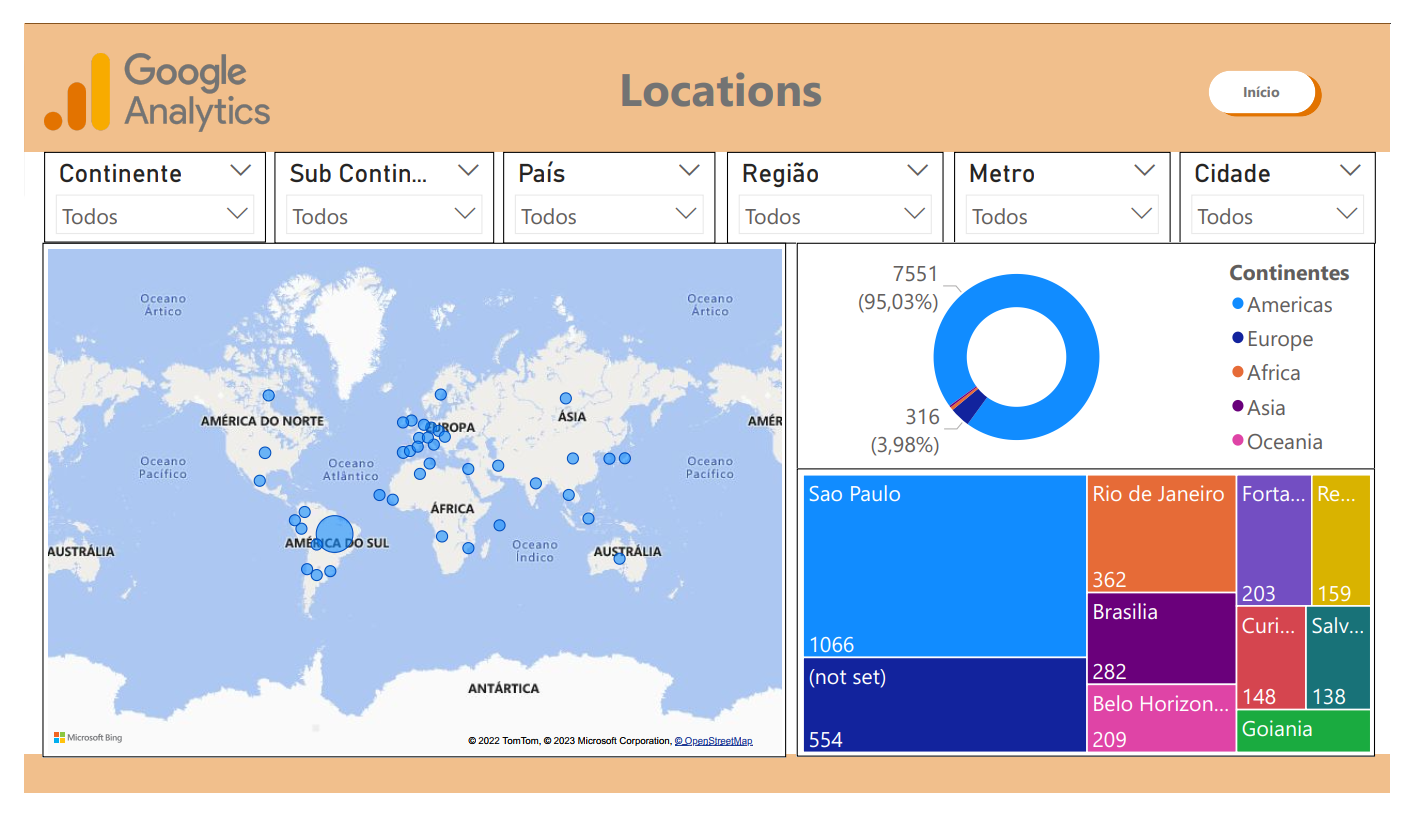

What the dashboard file says about the page in this screenshot:
{"tool":"powerbi","page":{"name":"Locations","canvas":[1280,720],"ordinal":5},"visuals":[{"type":"shape","box":[0,683.3,1280,36.7],"z":0},{"type":"shape","box":[0,0,1280,120],"z":1000},{"type":"slicer","fields":{"Values":["locations.ga_continent"]},"box":[18.1,120,208.3,85],"z":2000},{"type":"slicer","fields":{"Values":["locations.ga_subcontinent"]},"box":[233.6,119.7,205.8,85.5],"z":3000},{"type":"slicer","fields":{"Values":["locations.ga_country"]},"box":[448.2,119.7,198.6,85.5],"z":4000},{"type":"slicer","fields":{"Values":["locations.ga_region"]},"box":[658.4,119.7,202.9,85.5],"z":5000},{"type":"slicer","fields":{"Values":["locations.ga_metro"]},"box":[871.5,119.7,202.9,85.5],"z":6000},{"type":"slicer","fields":{"Values":["locations.ga_city"]},"box":[1081.7,119.7,184.1,85.5],"z":7000},{"type":"map","fields":{"Category":["locations.ga_country"],"Size":["Sum(locations.ga_users)"]},"box":[16.7,205,696.7,481.7],"z":8000},{"type":"donutChart","fields":{"Category":["locations.ga_continent"],"Y":["Sum(locations.ga_users)"]},"box":[723.3,205,541.7,211.7],"z":9000},{"type":"treemap","fields":{"Group":["locations.ga_city"],"Values":["Sum(locations.ga_users)"]},"box":[723.3,416.7,541.7,270],"z":10000},{"type":"actionButton","box":[1115.8,47.8,99.6,40.1],"z":11000},{"type":"actionButton","box":[1109.3,44,99.6,40.1],"z":12000},{"type":"textbox","box":[534,25.9,210.7,76.3],"z":13000},{"type":"image","box":[14.2,0,221.1,129.3],"z":14000}]}

Visuals, with their boxes in screenshot pixels (x1, y1, x2, y2), scaled from the page's 1280x720 canvas onto the 1413x817 screenshot:
shape: (left=0, top=775, right=1412, bottom=816)
shape: (left=0, top=0, right=1412, bottom=136)
slicer - locations.ga_continent: (left=20, top=136, right=250, bottom=233)
slicer - locations.ga_subcontinent: (left=258, top=136, right=485, bottom=233)
slicer - locations.ga_country: (left=495, top=136, right=714, bottom=233)
slicer - locations.ga_region: (left=727, top=136, right=951, bottom=233)
slicer - locations.ga_metro: (left=962, top=136, right=1186, bottom=233)
slicer - locations.ga_city: (left=1194, top=136, right=1397, bottom=233)
map - locations.ga_country x Sum(locations.ga_users): (left=18, top=233, right=788, bottom=779)
donutChart - locations.ga_continent x Sum(locations.ga_users): (left=798, top=233, right=1396, bottom=473)
treemap - locations.ga_city x Sum(locations.ga_users): (left=798, top=473, right=1396, bottom=779)
actionButton: (left=1232, top=54, right=1342, bottom=100)
actionButton: (left=1225, top=50, right=1335, bottom=95)
textbox: (left=589, top=29, right=822, bottom=116)
image: (left=16, top=0, right=260, bottom=147)
